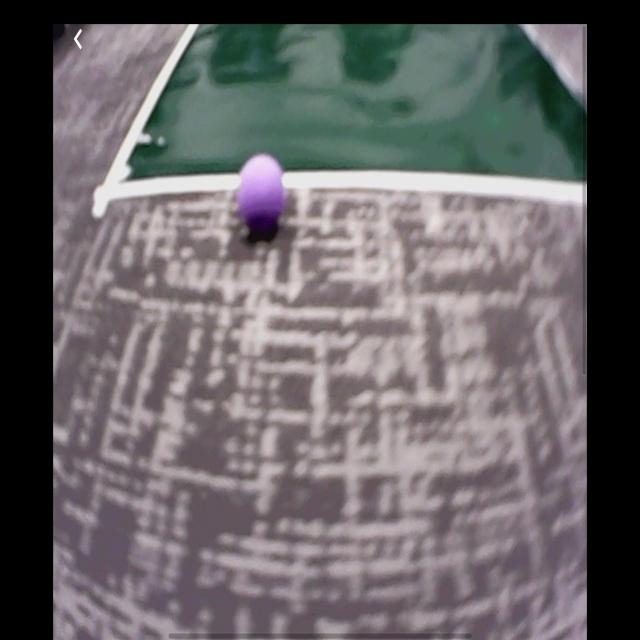ball: (240, 155, 285, 226)
